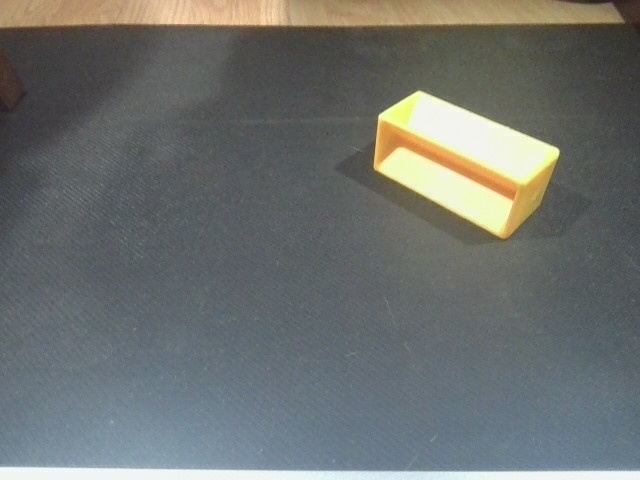YellowSample: (370, 89, 561, 243)
